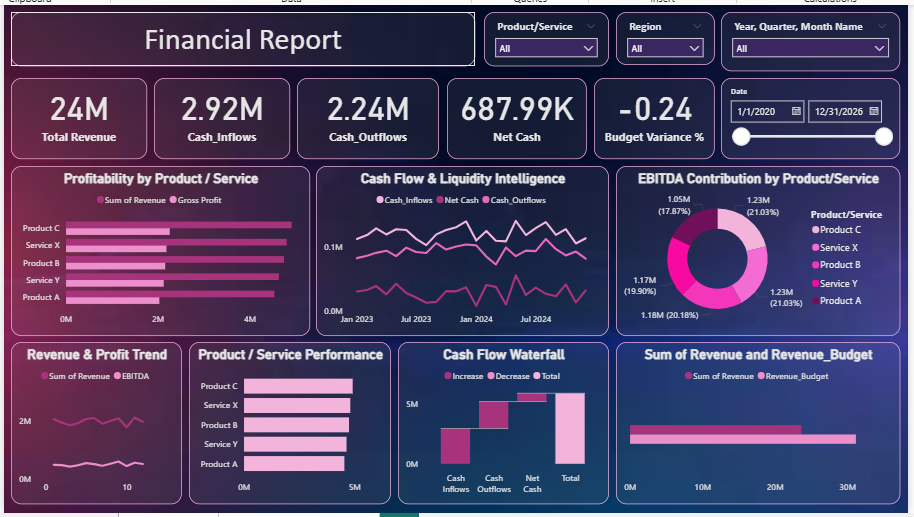

What the dashboard file says about the page in this screenshot:
{"tool":"powerbi","page":{"name":"Dashboard","canvas":[1280,720],"ordinal":0},"visuals":[{"type":"card","fields":{"Values":["Fact_Financials.Total Revenue"]},"box":[9.9,93.5,198.4,103.5],"z":0},{"type":"card","fields":{"Values":["Fact_Financials.Net Cash"]},"box":[612,93.5,198.4,103.5],"z":1000},{"type":"lineChart","title":"Revenue & Profit Trend","fields":{"Y":["Fact_Financials.Total Revenue"],"Category":["Date_Table.Date Hierarchy.Year","Date_Table.Date Hierarchy.Month Name","Date_Table.Date Hierarchy.Quarter"],"Y2":["Fact_Financials.Gross Profit"]},"box":[415.3,206.9,442.2,240.9],"z":2000},{"type":"clusteredBarChart","title":"Product / Service Performance","fields":{"Category":["Table1.Product/Service"],"Y":["Fact_Financials.Total Revenue"]},"box":[415.3,456.4,286.3,250.9],"z":3000},{"type":"waterfallChart","title":"Cash Flow Waterfall","fields":{"Category":["CashFlow_Category.Category"],"Y":["CashFlow_Category.Cash Flow Waterfall Value"]},"box":[706,456.4,272.1,250.9],"z":4000},{"type":"card","fields":{"Values":["Fact_Financials.Budget Variance %"]},"box":[817.8,93.5,189.9,103.5],"z":5000},{"type":"slicer","fields":{"Values":["Date_Table.Year","Date_Table.Quarter","Date_Table.Month Name"]},"box":[1016.2,9.9,253.7,76.5],"z":6000},{"type":"slicer","fields":{"Values":["Fact_Financials.Region"]},"box":[867.4,9.9,140.3,75.1],"z":7000},{"type":"slicer","fields":{"Values":["Fact_Financials.Product/Service"]},"box":[680.3,9.9,177.2,76.5],"z":8000},{"type":"slicer","fields":{"Values":["Date_Table.Date"]},"box":[1016.2,93.5,253.7,103.5],"z":10000},{"type":"textbox","box":[9.9,9.9,657.6,75.1],"z":11000},{"type":"clusteredBarChart","title":"Profitability by Product / Service","fields":{"Y":["Sum(Fact_Financials.Revenue)","Fact_Financials.Gross Profit"],"Category":["Fact_Financials.Product/Service"]},"box":[9.9,206.9,395.4,240.9],"z":12000},{"type":"donutChart","title":"EBITDA Contribution by Product/Service","fields":{"Category":["Fact_Financials.Product/Service"],"Y":["Fact_Financials.EBITDA"]},"box":[867.4,206.9,402.5,240.9],"z":13000},{"type":"card","fields":{"Values":["Fact_Financials.Gross Margin %"]},"box":[212.6,93.5,192.8,103.5],"z":14000},{"type":"card","fields":{"Values":["Fact_Financials.EBITDA %"]},"box":[415.3,93.5,189.9,103.5],"z":15000},{"type":"clusteredColumnChart","title":"Budget vs Actual Variance %","fields":{"Category":["Date_Table.Year-Month"],"Y":["Fact_Financials.Total Revenue","Fact_Financials.Revenue_Budget"]},"box":[9.9,456.4,395.4,250.9],"z":16000},{"type":"barChart","title":"Receivables Aging","fields":{"Category":["Fact_Financials.Receivable Bucket"],"Y":["Fact_Financials.Total Revenue"]},"box":[985,456.4,284.9,250.9],"z":17000}]}

Visuals, with their boxes on the page's 1280x720 design canvas (x1, y1, x2, y2). These are canvas units, not pixel positions in the 914x517 screenshot, which may show the page scaled, cropped or inside an application window:
card - Fact_Financials.Total Revenue: x1=10, y1=94, x2=208, y2=197
card - Fact_Financials.Net Cash: x1=612, y1=94, x2=810, y2=197
"Revenue & Profit Trend" lineChart: x1=415, y1=207, x2=858, y2=448
"Product / Service Performance" clusteredBarChart: x1=415, y1=456, x2=702, y2=707
"Cash Flow Waterfall" waterfallChart: x1=706, y1=456, x2=978, y2=707
card - Fact_Financials.Budget Variance %: x1=818, y1=94, x2=1008, y2=197
slicer - Date_Table.Year x Date_Table.Quarter: x1=1016, y1=10, x2=1270, y2=86
slicer - Fact_Financials.Region: x1=867, y1=10, x2=1008, y2=85
slicer - Fact_Financials.Product/Service: x1=680, y1=10, x2=858, y2=86
slicer - Date_Table.Date: x1=1016, y1=94, x2=1270, y2=197
textbox: x1=10, y1=10, x2=668, y2=85
"Profitability by Product / Service" clusteredBarChart: x1=10, y1=207, x2=405, y2=448
"EBITDA Contribution by Product/Service" donutChart: x1=867, y1=207, x2=1270, y2=448
card - Fact_Financials.Gross Margin %: x1=213, y1=94, x2=405, y2=197
card - Fact_Financials.EBITDA %: x1=415, y1=94, x2=605, y2=197
"Budget vs Actual Variance %" clusteredColumnChart: x1=10, y1=456, x2=405, y2=707
"Receivables Aging" barChart: x1=985, y1=456, x2=1270, y2=707
